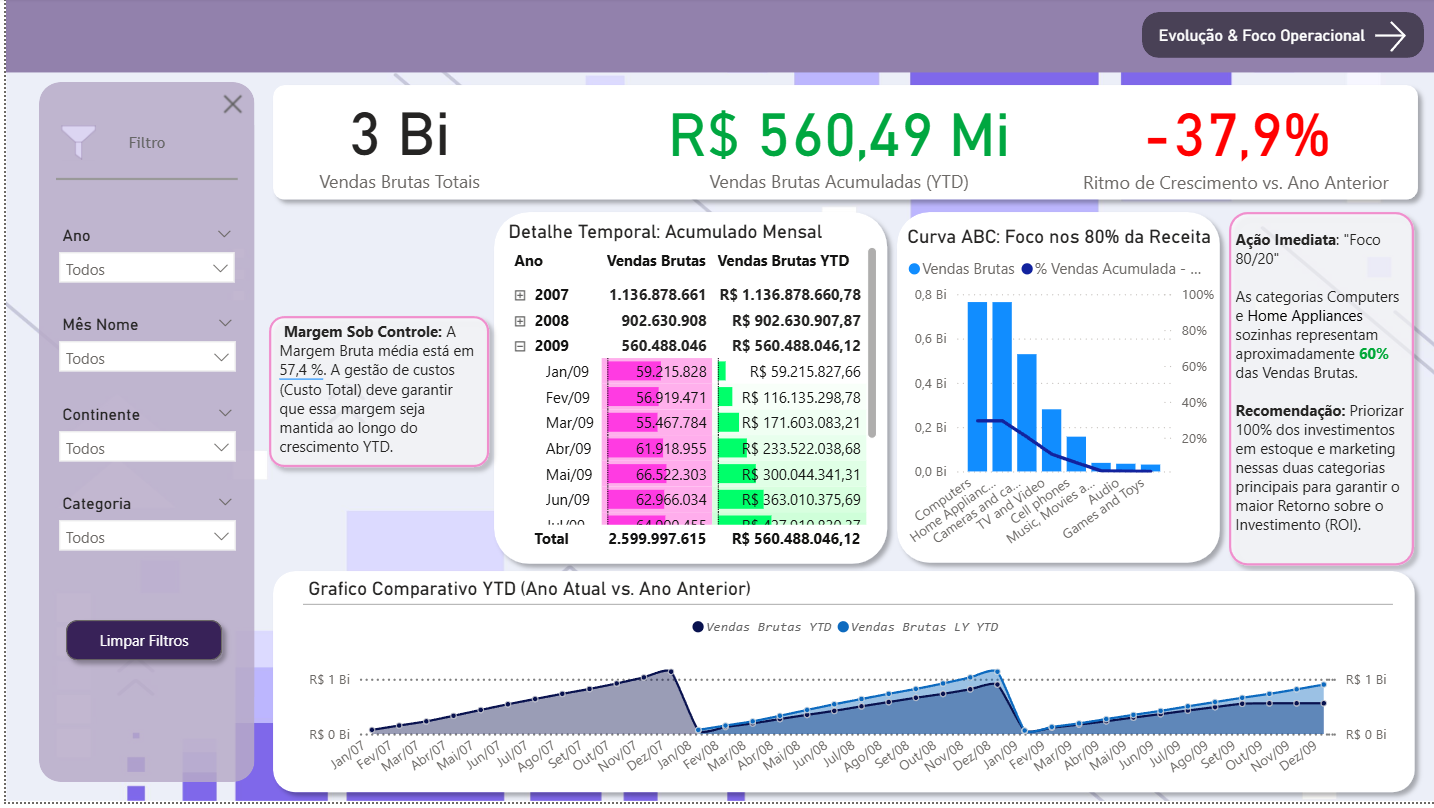

The page's visual inventory and layout, read from the dashboard file:
{"tool":"powerbi","page":{"name":"Visão Estratégica & Diagnóstico","canvas":[1280,720],"ordinal":1},"visuals":[{"type":"image","title":"Fundo Aba","box":[0,0,1280,719.1],"z":0},{"type":"shape","title":"Header_Fundo","box":[0,0,1280,66.7],"z":0,"group":"g6"},{"type":"shape","title":"Fundo_KPI","box":[229.9,69,1043.3,120.6],"z":0,"group":"g7"},{"type":"shape","title":"Fundo","box":[29.5,75.6,193.1,626.9],"z":0,"group":"g3"},{"type":"group","id":"g1","title":"Matriz Detalhe Temporal ","box":[428.6,182.7,370.1,333],"z":0,"group":"g8"},{"type":"shape","title":"Fundo_Detalhe","box":[428.6,182.7,370.1,333],"z":0,"group":"g1"},{"type":"group","id":"g2","title":"Grafico Curva ABC","box":[788.8,182.7,307.5,332],"z":0,"group":"g9"},{"type":"shape","title":"Fundo_ABC","box":[788.8,182.7,307.1,332],"z":0,"group":"g2"},{"type":"shape","title":"Fundo_Texto","box":[1086.2,182.7,183.7,334.5],"z":0,"group":"g4"},{"type":"shape","title":"Fundo_Texto","box":[227,276.1,215.1,153.2],"z":0,"group":"g5"},{"type":"shape","title":"Fundo_Comparativo","box":[229.9,503.9,1040.3,216.1],"z":0,"group":"g10"},{"type":"actionButton","title":"Botao_Analise","box":[1017.3,12.5,252.5,41.2],"z":1000,"group":"g6"},{"type":"card","title":"Vendas Brutas Acumuladas (YTD)","fields":{"Values":["Medidas 2.Vendas Brutas YTD"]},"box":[552.2,61.1,387,129.7],"z":1000,"group":"g7"},{"type":"group","id":"g3","title":"Menu_Aberta","box":[29.5,75.6,193.1,626.9],"z":1000},{"type":"group","id":"g4","title":"Texto Curva","box":[1086.2,182.7,183.7,335],"z":1000,"group":"g9"},{"type":"pivotTable","title":"Detalhe Temporal: Acumulado Mensal","fields":{"Values":["Medidas 1.Vendas Brutas","Medidas 2.Vendas Brutas YTD"],"Rows":["dCalendario.Ano","dCalendario.AnoMês"]},"box":[445.7,198.4,339.9,300.6],"z":1000,"group":"g1"},{"type":"slicer","title":"Ano","fields":{"Values":["dCalendario.Ano"]},"box":[37.6,200,177,78.9],"z":1000,"group":"g3"},{"type":"textbox","box":[1096.2,202,163.5,315.7],"z":1000,"group":"g4"},{"type":"lineClusteredColumnComboChart","title":"Curva ABC: Foco nos 80% da Receita","fields":{"Category":["dCategoriaProdutos.Categoria"],"Y":["Medidas 1.Vendas Brutas"],"Y2":["Medidas Dashboard.% Vendas Acumulada - ABC"]},"box":[802.1,203.4,285.5,301],"z":1000,"group":"g2"},{"type":"group","id":"g5","title":"Texto Detalhe","box":[227,276.1,215.1,153.2],"z":1000,"group":"g8"},{"type":"textbox","box":[240.8,284.9,190.6,133.6],"z":1000,"group":"g5"},{"type":"lineChart","title":"Grafico Comparativo YTD (Ano Atual vs. Ano Anterior)","fields":{"Category":["dCalendario.AnoMês"],"Y":["Medidas 2.Vendas Brutas YTD"],"Y2":["Medidas Dashboard.Vendas Brutas LY YTD"]},"box":[266,518.4,975.9,191.6],"z":1000,"group":"g10"},{"type":"card","title":"Ritmo de Crescimento","fields":{"Values":["Medidas Dashboard.% Crescimento LY"]},"box":[956,62,289.8,128.7],"z":2000,"group":"g7"},{"type":"slicer","title":"AnoMes","fields":{"Values":["dCalendario.Mês Nome"]},"box":[37.6,280,177.9,78.9],"z":2000,"group":"g3"},{"type":"group","id":"g6","title":"Header","box":[0,0,1280,66.7],"z":3000},{"type":"card","title":"Vendas Brutas Totais ","fields":{"Values":["Medidas 1.Vendas Brutas"]},"box":[250.7,61,203.3,128.7],"z":3000,"group":"g7"},{"type":"slicer","title":"Continente","fields":{"Values":["dLocalidades.Continente"]},"box":[37.6,360,177.9,78.9],"z":3000,"group":"g3"},{"type":"group","id":"g7","title":"KPI ","box":[229.9,61,1043.3,129.8],"z":4000},{"type":"slicer","title":"Categoria","fields":{"Values":["dCategoriaProdutos.Categoria"]},"box":[37.6,440,177.9,78.9],"z":4000,"group":"g3"},{"type":"actionButton","title":"Filtro","box":[44.7,110,162.8,40.4],"z":5000,"group":"g3"},{"type":"group","id":"g8","title":"Detalhe Temporal: Acumulado Mensal","box":[227,182.7,571.6,333],"z":5000},{"type":"shape","title":"Borda filtro","box":[44.7,150.4,162.8,23.3],"z":6000,"group":"g3"},{"type":"group","id":"g9","title":"Curva ABC","box":[788.8,182.7,481.4,335],"z":6000},{"type":"group","id":"g10","title":"Comparativo YTD","box":[229.9,503.9,1040.3,216.1],"z":7000},{"type":"actionButton","title":"Limpar Filtro","box":[45,548.2,157.8,54],"z":7000,"group":"g3"},{"type":"actionButton","title":"Fechar","box":[185.3,75.8,35.6,40],"z":8000,"group":"g3"}]}

Visuals, with their boxes on the page's 1280x720 design canvas (x1, y1, x2, y2). These are canvas units, not pixel positions in the 1434x808 screenshot, which may show the page scaled, cropped or inside an application window:
"Fundo Aba" image: box(0, 0, 1280, 719)
"Header_Fundo" shape: box(0, 0, 1280, 67)
"Fundo_KPI" shape: box(230, 69, 1273, 190)
"Fundo" shape: box(30, 76, 223, 702)
"Matriz Detalhe Temporal " group: box(429, 183, 799, 516)
"Fundo_Detalhe" shape: box(429, 183, 799, 516)
"Grafico Curva ABC" group: box(789, 183, 1096, 515)
"Fundo_ABC" shape: box(789, 183, 1096, 515)
"Fundo_Texto" shape: box(1086, 183, 1270, 517)
"Fundo_Texto" shape: box(227, 276, 442, 429)
"Fundo_Comparativo" shape: box(230, 504, 1270, 720)
"Botao_Analise" actionButton: box(1017, 12, 1270, 54)
"Vendas Brutas Acumuladas (YTD)" card: box(552, 61, 939, 191)
"Menu_Aberta" group: box(30, 76, 223, 702)
"Texto Curva" group: box(1086, 183, 1270, 518)
"Detalhe Temporal: Acumulado Mensal" pivotTable: box(446, 198, 786, 499)
"Ano" slicer: box(38, 200, 215, 279)
textbox: box(1096, 202, 1260, 518)
"Curva ABC: Foco nos 80% da Receita" lineClusteredColumnComboChart: box(802, 203, 1088, 504)
"Texto Detalhe" group: box(227, 276, 442, 429)
textbox: box(241, 285, 431, 418)
"Grafico Comparativo YTD (Ano Atual vs. Ano Anterior)" lineChart: box(266, 518, 1242, 710)
"Ritmo de Crescimento" card: box(956, 62, 1246, 191)
"AnoMes" slicer: box(38, 280, 216, 359)
"Header" group: box(0, 0, 1280, 67)
"Vendas Brutas Totais " card: box(251, 61, 454, 190)
"Continente" slicer: box(38, 360, 216, 439)
"KPI " group: box(230, 61, 1273, 191)
"Categoria" slicer: box(38, 440, 216, 519)
"Filtro" actionButton: box(45, 110, 208, 150)
"Detalhe Temporal: Acumulado Mensal" group: box(227, 183, 799, 516)
"Borda filtro" shape: box(45, 150, 208, 174)
"Curva ABC" group: box(789, 183, 1270, 518)
"Comparativo YTD" group: box(230, 504, 1270, 720)
"Limpar Filtro" actionButton: box(45, 548, 203, 602)
"Fechar" actionButton: box(185, 76, 221, 116)
